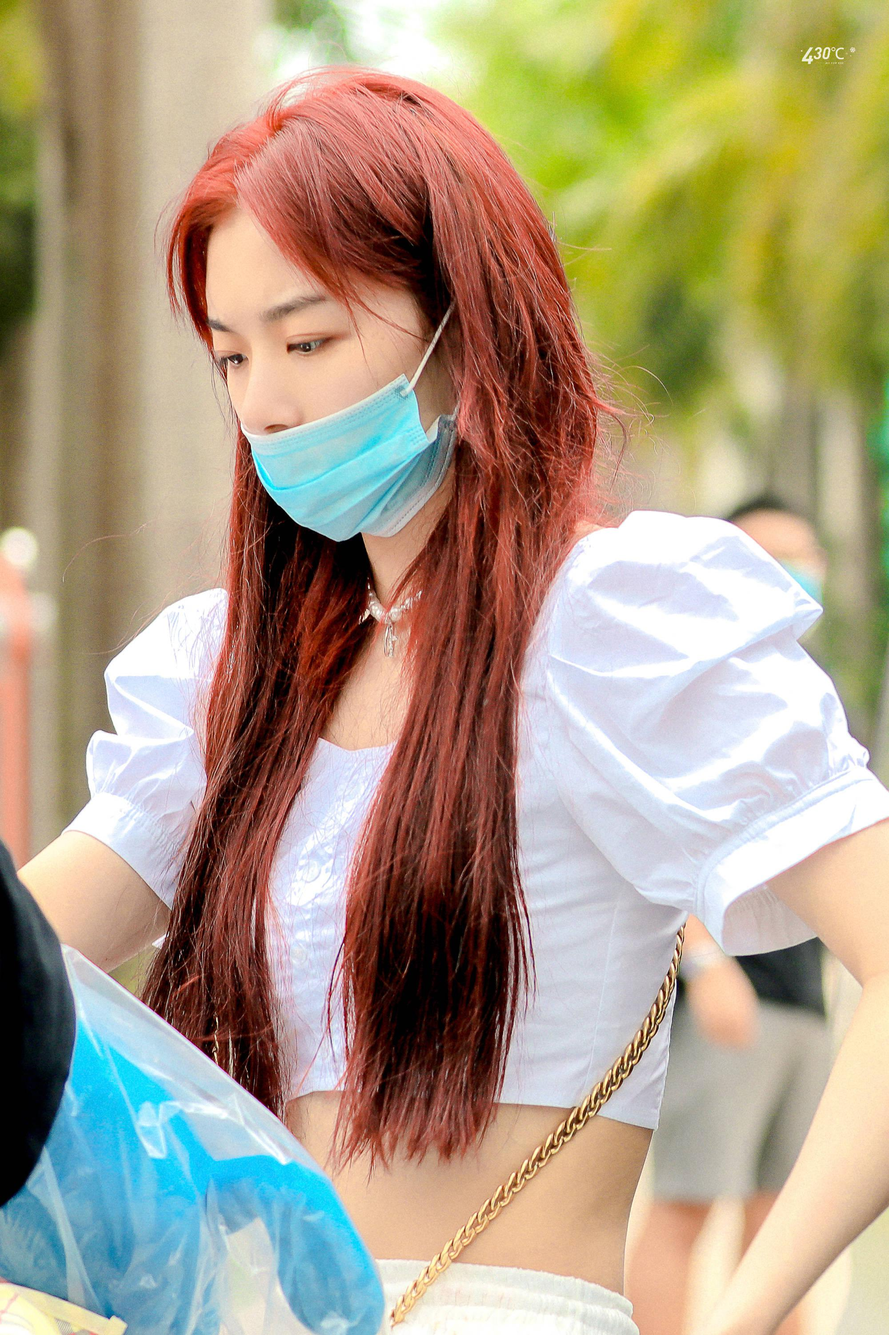WRONG: (205, 267, 449, 544)
